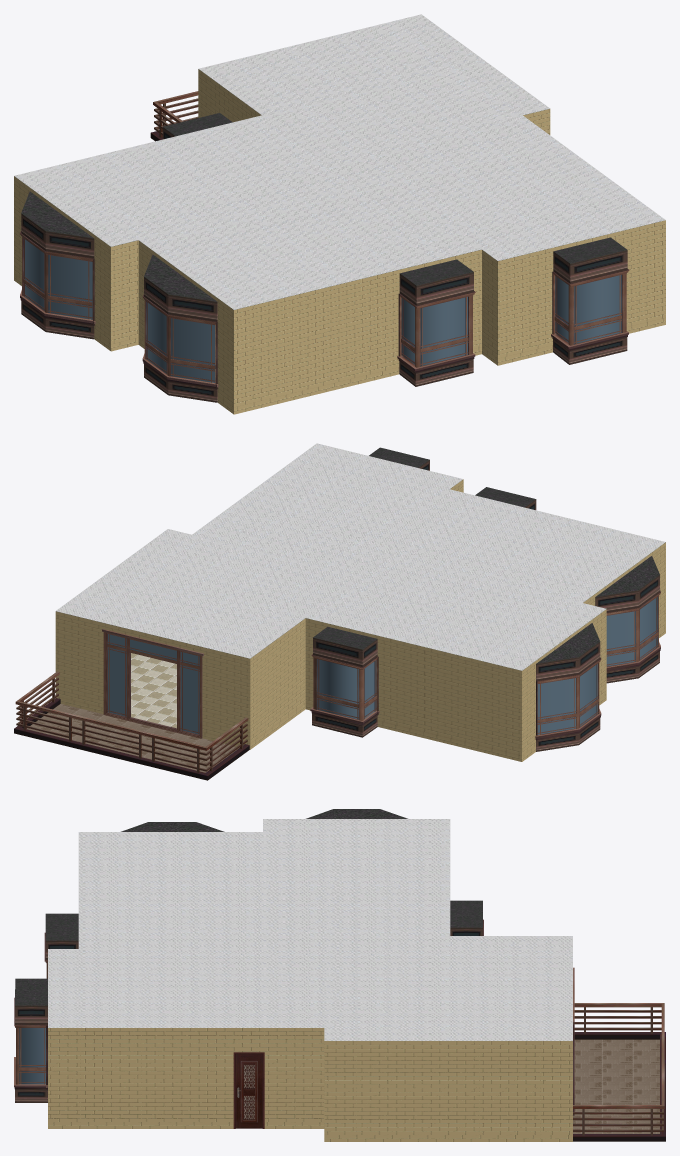
Rendered from house_0110500.FBX.
3 renders of one model, top to bottom at view 1: azimuth 30°, elevation 25°; view 2: azimuth 150°, elevation 25°; view 3: azimuth 270°, elevation 25°, orthographic. The views are drawn at different scales.
Parts seen in each view (by area): view 1: house_0110500_roof_100_00, house_0110500_outwall_100_09, house_0110500_outwall_100_11, house_0110500_floor_102_00, house_0110500_floor_103_00, house_0110500_floor_104_00, house_0110500_floor_105_00, house_0110500_outwall_100_06, house_0110500_outwall_100_07, house_0110500_outwall_100_08, house_0110500_outwall_100_04, house_0110500_outwall_100_10 (+4 smaller); view 2: house_0110500_roof_100_00, house_0110500_outwall_100_05, house_0110500_floor_107_00, house_0110500_outwall_100_03, house_0110500_floor_103_00, house_0110500_floor_106_00, house_0110500_floor_102_00, house_0110500_outwall_101_03, house_0110500_outwall_100_04, house_0110500_floor_101_00, house_0110500_outwall_100_06, house_0110500_tcx_100_05 (+4 smaller); view 3: house_0110500_roof_100_00, house_0110500_outwall_100_00, house_0110500_outwall_100_02, house_0110500_floor_107_00, house_0110500_floor_105_00, house_0110500_outwall_101_00, house_0110500_tcx_100_02, house_0110500_tcx_100_00, house_0110500_floor_104_00, house_0110500_floor_106_00, house_0110500_floor_102_00, house_0110500_floor_103_00.
Boxes of the visible parts, x1,y1,x2,y2 form: house_0110500_roof_100_00: (14, 14, 665, 309); house_0110500_outwall_100_09: (234, 249, 481, 407); house_0110500_outwall_100_11: (498, 220, 665, 358); house_0110500_floor_102_00: (142, 255, 218, 402); house_0110500_floor_103_00: (20, 191, 95, 339); house_0110500_floor_104_00: (397, 259, 475, 386); house_0110500_floor_105_00: (551, 237, 629, 364); house_0110500_outwall_100_06: (14, 176, 110, 343); house_0110500_outwall_100_07: (111, 240, 138, 344); house_0110500_outwall_100_08: (138, 240, 233, 406); house_0110500_outwall_100_04: (198, 69, 261, 122); house_0110500_outwall_100_10: (482, 250, 497, 358); house_0110500_roof_100_00: (56, 443, 665, 670); house_0110500_outwall_100_05: (305, 618, 521, 755); house_0110500_floor_107_00: (14, 671, 249, 780); house_0110500_outwall_100_03: (55, 611, 250, 743); house_0110500_floor_103_00: (535, 623, 601, 751); house_0110500_floor_106_00: (310, 626, 379, 737); house_0110500_floor_102_00: (595, 556, 660, 683); house_0110500_outwall_101_03: (102, 629, 203, 738); house_0110500_outwall_100_04: (250, 618, 305, 743); house_0110500_floor_101_00: (131, 653, 176, 728); house_0110500_outwall_100_06: (522, 609, 606, 755); house_0110500_tcx_100_05: (305, 703, 521, 761); house_0110500_roof_100_00: (48, 819, 572, 1040); house_0110500_outwall_100_00: (48, 1028, 324, 1121); house_0110500_outwall_100_02: (324, 1041, 572, 1134); house_0110500_floor_107_00: (573, 1003, 665, 1141); house_0110500_floor_105_00: (14, 978, 47, 1102); house_0110500_outwall_101_00: (233, 1052, 264, 1128); house_0110500_tcx_100_02: (324, 1135, 572, 1141); house_0110500_tcx_100_00: (48, 1122, 324, 1128); house_0110500_floor_104_00: (44, 913, 78, 978); house_0110500_floor_106_00: (450, 900, 483, 935); house_0110500_floor_102_00: (121, 822, 224, 831); house_0110500_floor_103_00: (306, 809, 407, 818).
Bounding box in the file's own units: 1455 × 292 × 1699.
66 materials, 66 textured.
